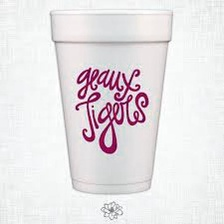paper_cup: (43, 3, 178, 199)
